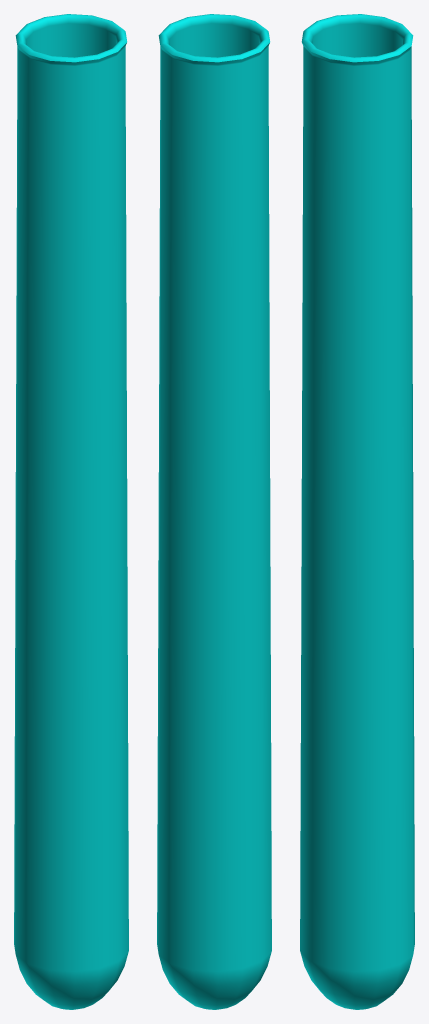
3 views of the same model, side by side, from view 1: azimuth 30°, elevation 25°; view 2: azimuth 210°, elevation 25°; view 3: azimuth 330°, elevation 25° (orthographic).
Parts seen in each view (by area): view 1: Test_tube1; view 2: Test_tube1; view 3: Test_tube1.
Part boxes in pixels (left/top/right/bottom): Test_tube1: left=14, top=14, right=128, bottom=1009; Test_tube1: left=157, top=14, right=271, bottom=1009; Test_tube1: left=300, top=14, right=414, bottom=1009.
Size of what is drawn, in the model's own units: 1.6 by 15 by 1.6.
